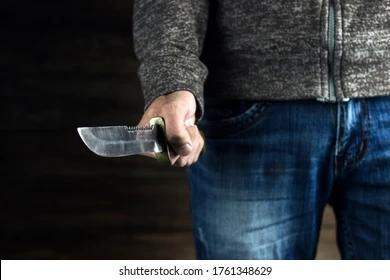Knife: (134, 0, 390, 257), (136, 104, 206, 166), (77, 119, 165, 161)
